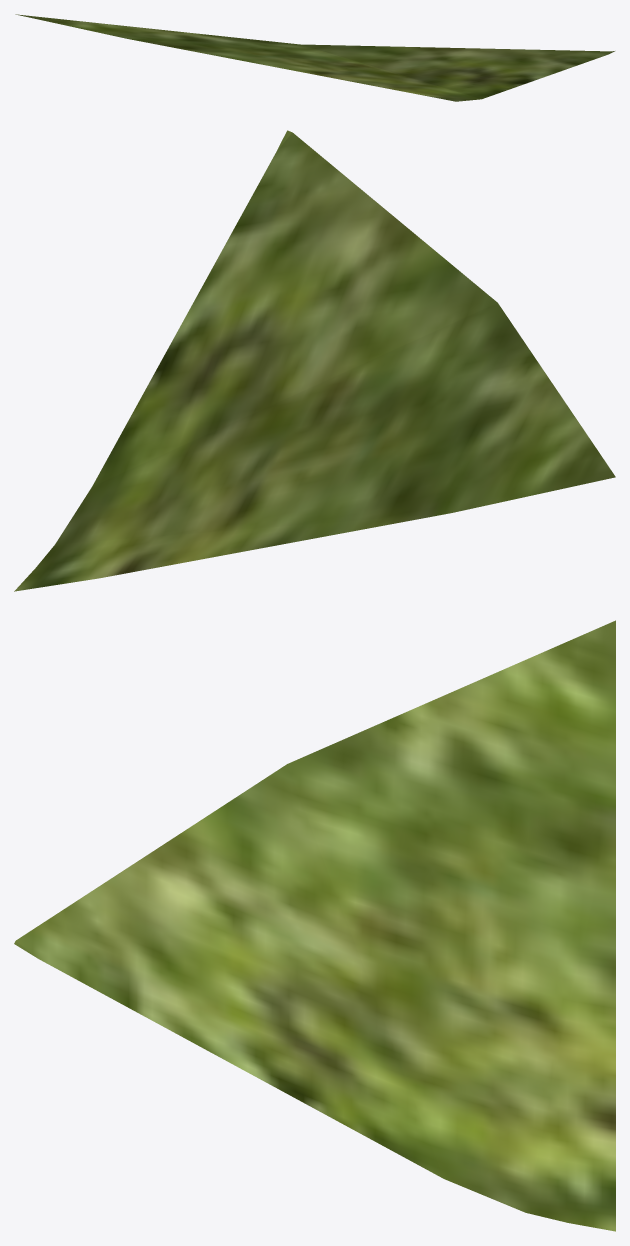
3 renders of one model, top to bottom at view 1: azimuth 30°, elevation 25°; view 2: azimuth 150°, elevation 25°; view 3: azimuth 270°, elevation 25°, orthographic. The views are drawn at different scales.
Size of the model in its own units: 0.9527 by 0.395 by 0.7492.
1 material, 1 textured.
